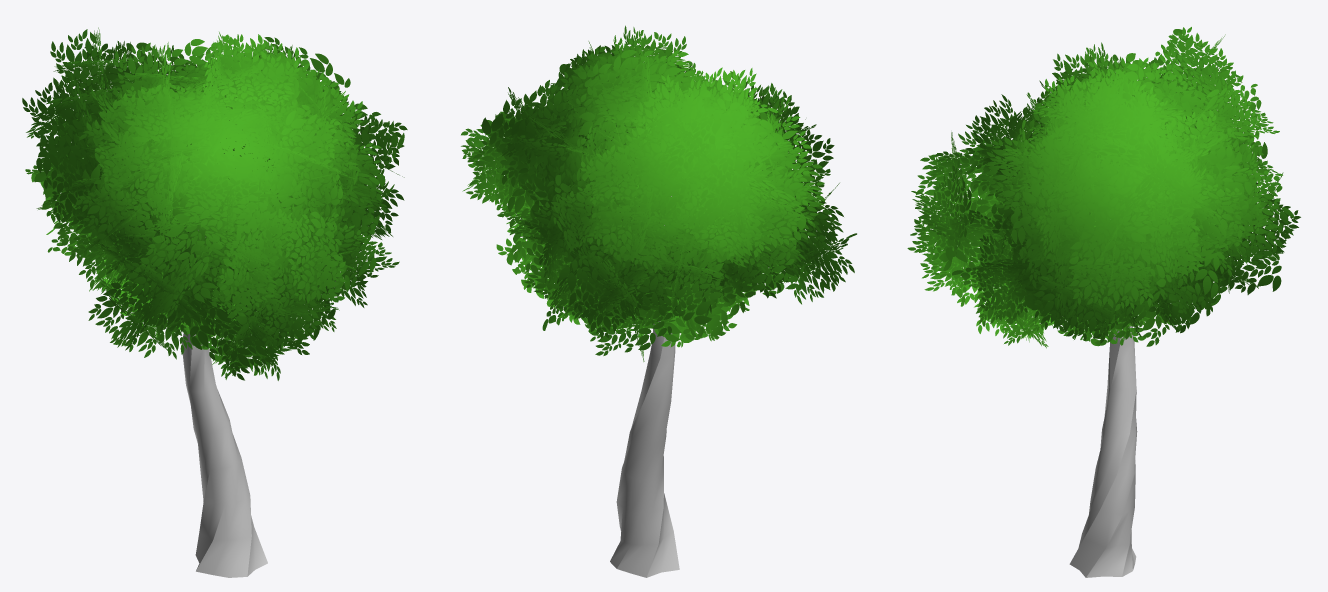
The model's file is sample.obj.
3 views of the same model, side by side, from view 1: azimuth 30°, elevation 25°; view 2: azimuth 150°, elevation 25°; view 3: azimuth 270°, elevation 25° (orthographic). The views are drawn at different scales.
Visible parts, largest first — view 1: Elm_01_Leaf_Small, Elm_01_Trunk; view 2: Elm_01_Leaf_Small, Elm_01_Trunk; view 3: Elm_01_Leaf_Small, Elm_01_Trunk.
Part boxes in pixels (<box>): Elm_01_Leaf_Small: <box>22,27,407,380</box>; Elm_01_Trunk: <box>181,230,267,577</box>; Elm_01_Leaf_Small: <box>461,25,856,361</box>; Elm_01_Trunk: <box>610,196,679,577</box>; Elm_01_Leaf_Small: <box>907,27,1300,348</box>; Elm_01_Trunk: <box>1069,325,1137,577</box>.
Size of what is drawn, in the model's own units: 4.53 by 6.2 by 4.61.
